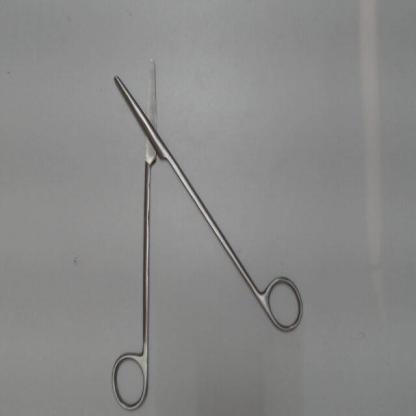9 Metzenbaum Scissors: (107, 54, 308, 413)
